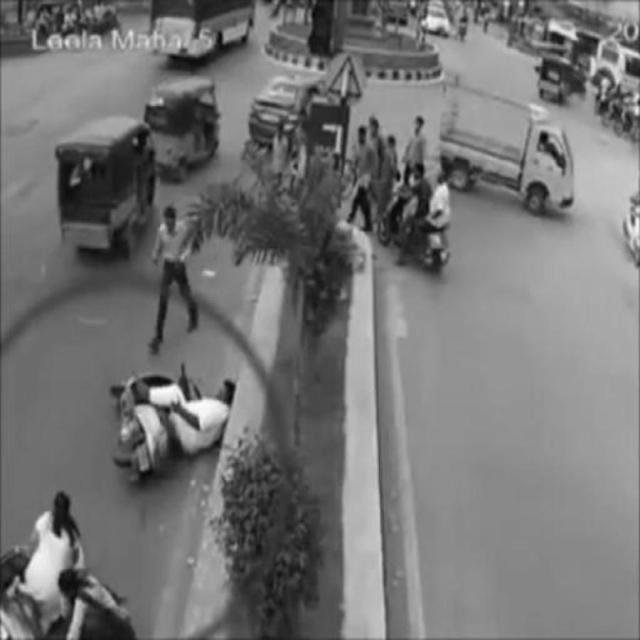person: (150, 201, 198, 355)
vehicle: (106, 361, 234, 489), (53, 114, 155, 254), (384, 170, 455, 276), (150, 81, 221, 181), (248, 73, 324, 149)
